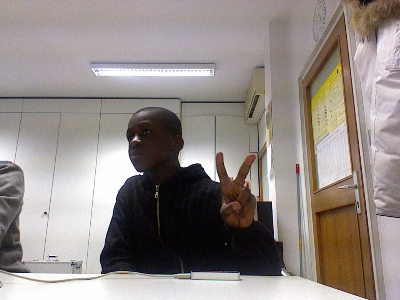剪刀: (214, 151, 257, 230)
